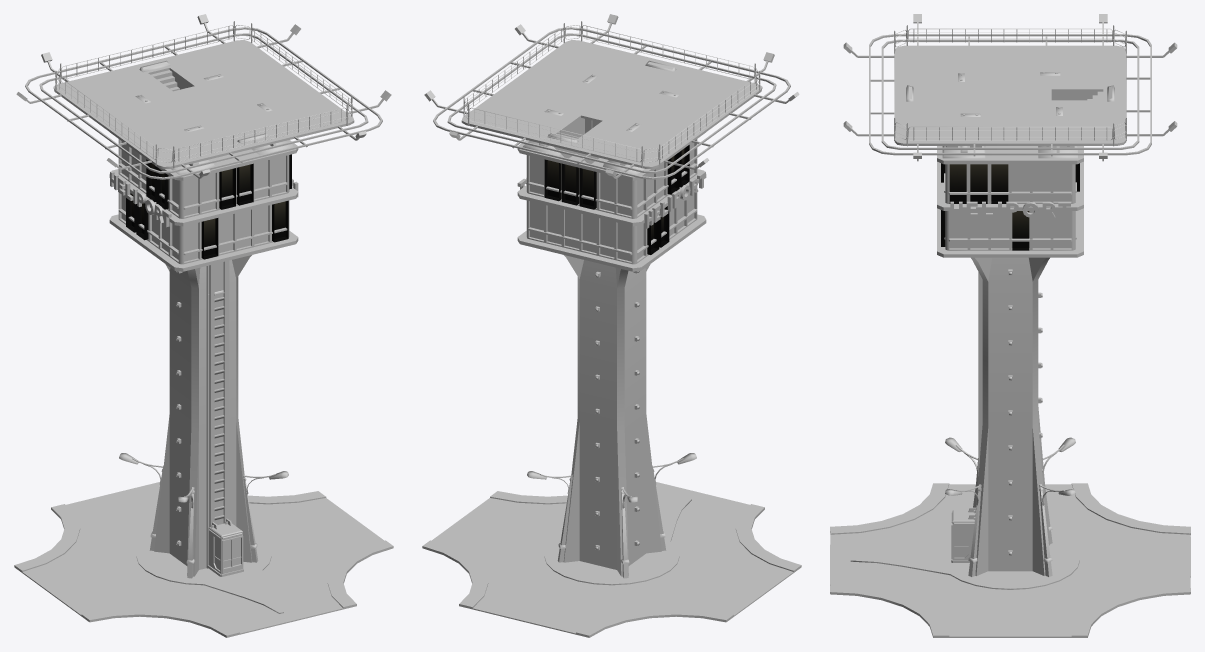
The model's file is TP_Concrete_Tower_01A.fbx.
The picture shows the model from 3 angles, left to right: view 1: azimuth 30°, elevation 25°; view 2: azimuth 150°, elevation 25°; view 3: azimuth 270°, elevation 25°; orthographic projection. The views are drawn at different scales.
Visible parts, largest first — view 1: TP_Concrete_Tower_01A, TP_Concrete_Tower_01A_Lights, TP_Concrete_Tower_01A_Elevator; view 2: TP_Concrete_Tower_01A, TP_Concrete_Tower_01A_Lights; view 3: TP_Concrete_Tower_01A, TP_Concrete_Tower_01A_Lights, TP_Concrete_Tower_01A_Elevator.
Part boxes in pixels (x1,y1,x2,y2): TP_Concrete_Tower_01A: [14, 14, 393, 637]; TP_Concrete_Tower_01A_Lights: [126, 154, 291, 259]; TP_Concrete_Tower_01A_Elevator: [207, 518, 243, 576]; TP_Concrete_Tower_01A: [422, 14, 801, 637]; TP_Concrete_Tower_01A_Lights: [544, 145, 689, 254]; TP_Concrete_Tower_01A: [830, 14, 1190, 637]; TP_Concrete_Tower_01A_Lights: [941, 163, 1079, 250]; TP_Concrete_Tower_01A_Elevator: [951, 507, 975, 562].
Bounding box in the file's own units: 28 × 42.75 × 28.
